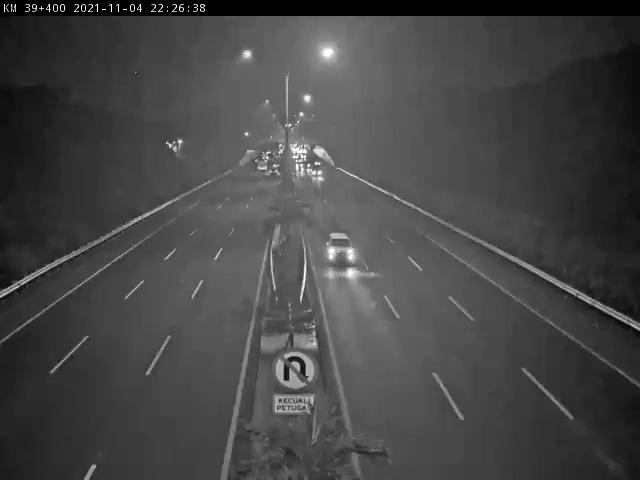car: (324, 224, 358, 274), (310, 159, 323, 182), (256, 159, 268, 176)
